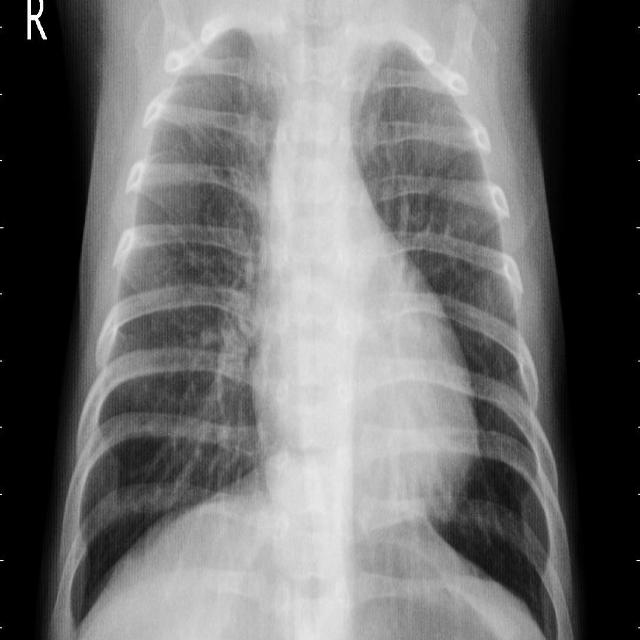high-pneumonia: (174, 1, 257, 115)
low-pneumonia: (206, 34, 287, 463), (341, 21, 460, 169)
